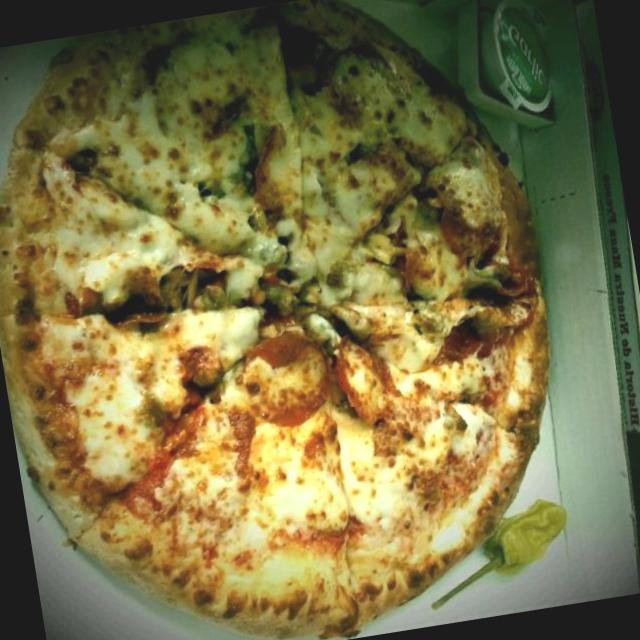mushrooms: (150, 252, 230, 316)
pepperoni: (236, 318, 336, 428), (322, 328, 418, 436)
pizza: (0, 0, 549, 637)
